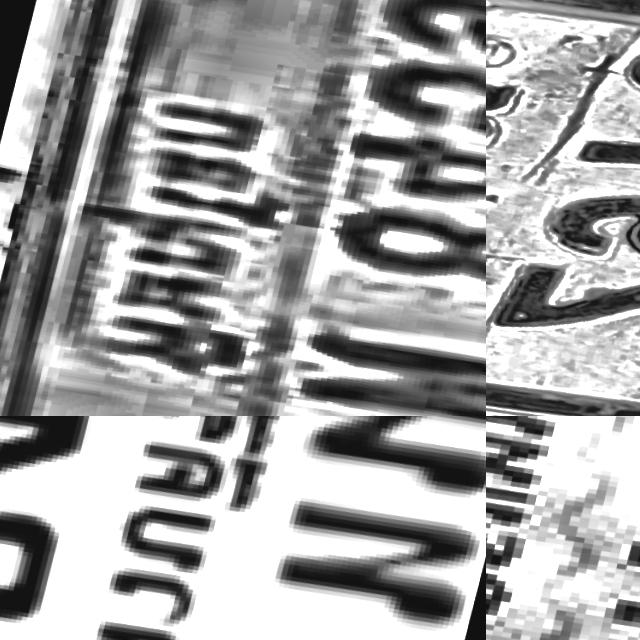license-plate: (0, 0, 486, 416), (0, 416, 486, 640), (486, 0, 640, 416), (486, 416, 640, 640)
